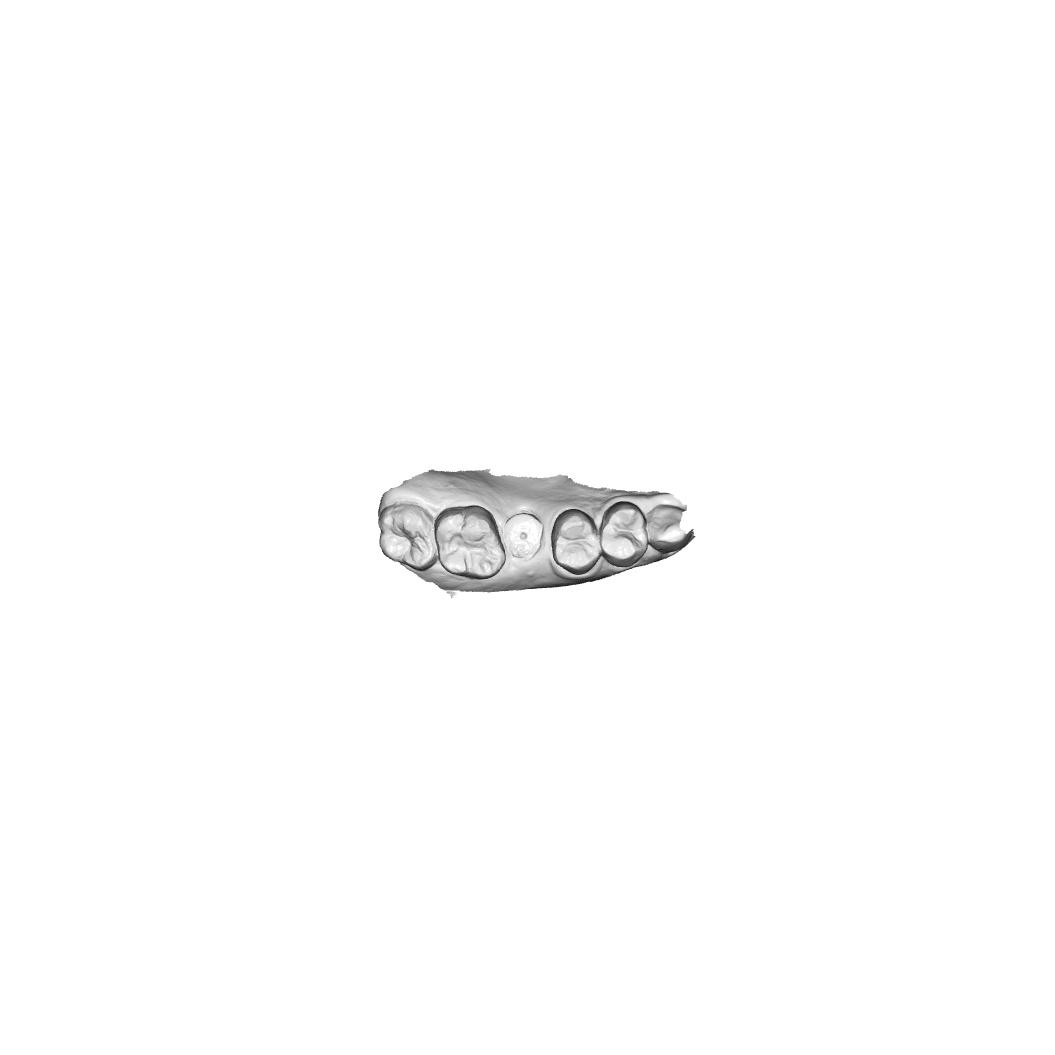canine: (646, 500, 695, 555)
implant: (504, 511, 545, 561)
molar: (433, 504, 506, 581), (376, 501, 440, 573)
premolar: (550, 508, 603, 576), (599, 500, 650, 568)
